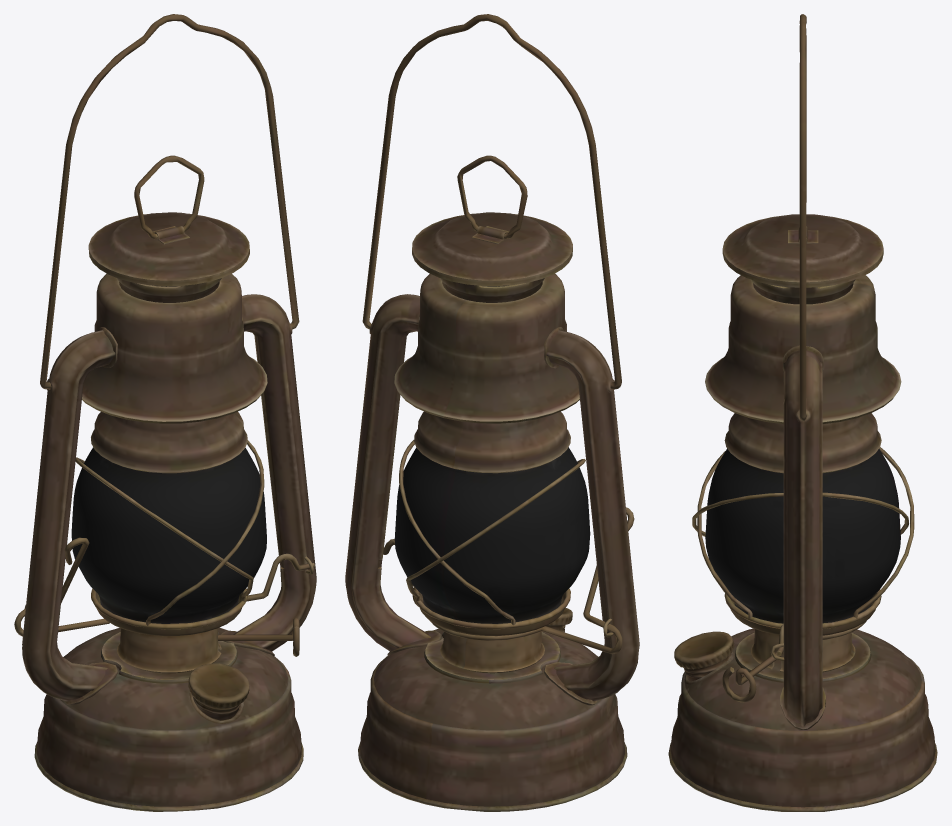
File: Lantern_01.glb
The picture shows the model from 3 angles, left to right: view 1: azimuth 30°, elevation 25°; view 2: azimuth 150°, elevation 25°; view 3: azimuth 270°, elevation 25°; orthographic projection.
Visible parts, largest first — view 1: Lantern_01, Lantern_01_glass; view 2: Lantern_01, Lantern_01_glass; view 3: Lantern_01, Lantern_01_glass.
Part boxes in pixels (x1,y1,x2,y2): Lantern_01: [14, 14, 316, 811]; Lantern_01_glass: [71, 447, 266, 623]; Lantern_01: [345, 14, 639, 811]; Lantern_01_glass: [394, 447, 590, 623]; Lantern_01: [668, 14, 937, 811]; Lantern_01_glass: [705, 448, 900, 623].
Bounding box in the file's own units: 0.1219 × 0.2942 × 0.0971.
2 materials, 2 textured.
